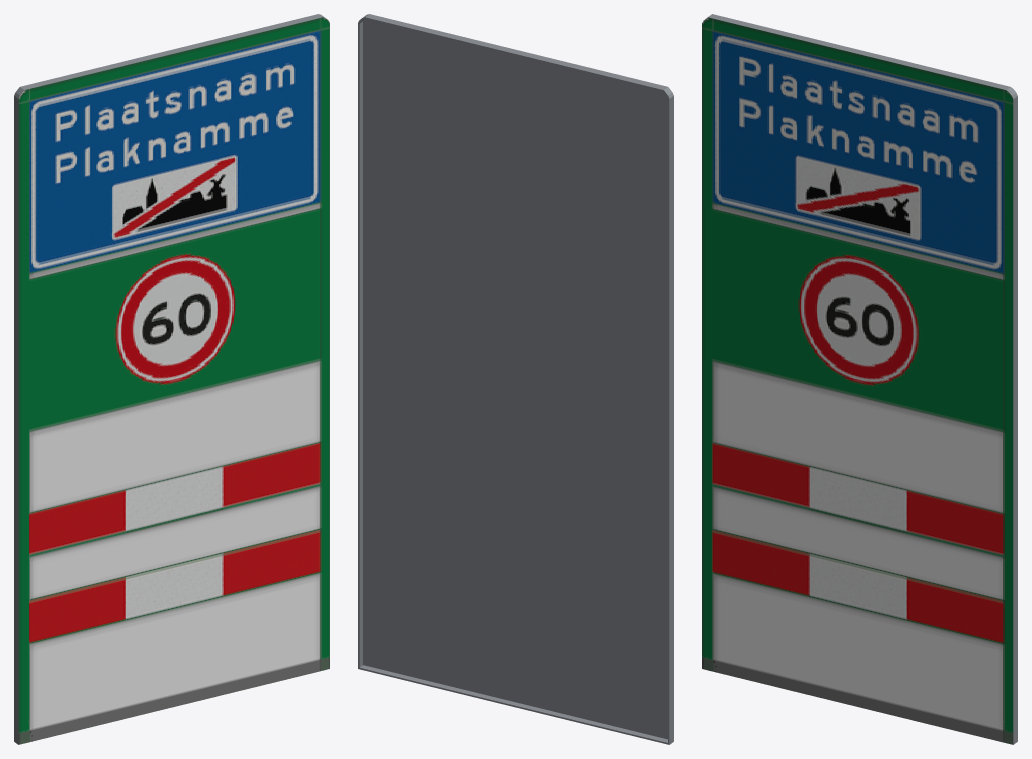
3 views of the same model, side by side, from view 1: azimuth 30°, elevation 25°; view 2: azimuth 150°, elevation 25°; view 3: azimuth 330°, elevation 25° (orthographic).
Parts seen in each view (by area): view 1: cat_8a860d7bbf138ca0; view 2: cat_8a860d7bbf138ca0; view 3: cat_8a860d7bbf138ca0.
Part boxes in pixels (bbox=[...]): cat_8a860d7bbf138ca0: bbox=[14, 14, 329, 744]; cat_8a860d7bbf138ca0: bbox=[358, 14, 673, 744]; cat_8a860d7bbf138ca0: bbox=[702, 14, 1017, 744].
Size of the model in its own units: 0.6 by 0.015 by 1.2.
Materials: 2 (1 with a texture image).
